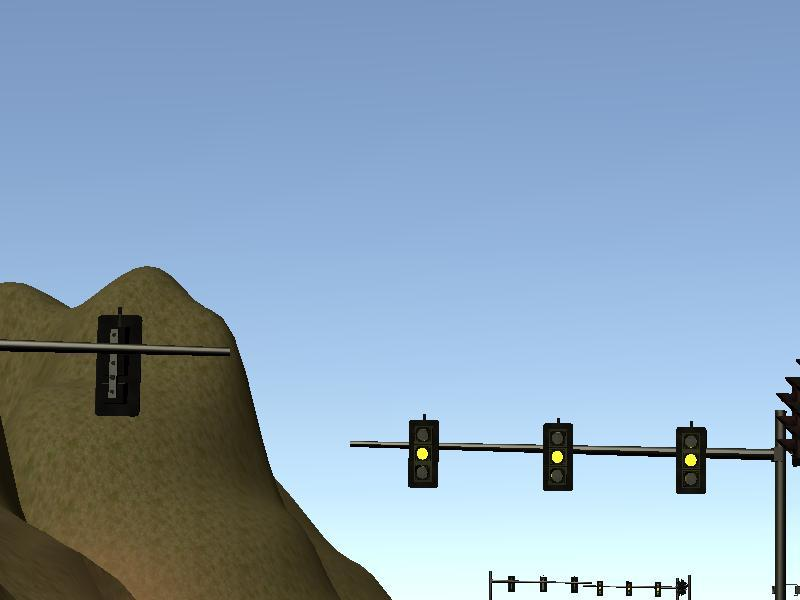Yellow: (541, 423, 573, 492), (406, 420, 438, 489), (674, 426, 706, 494)
